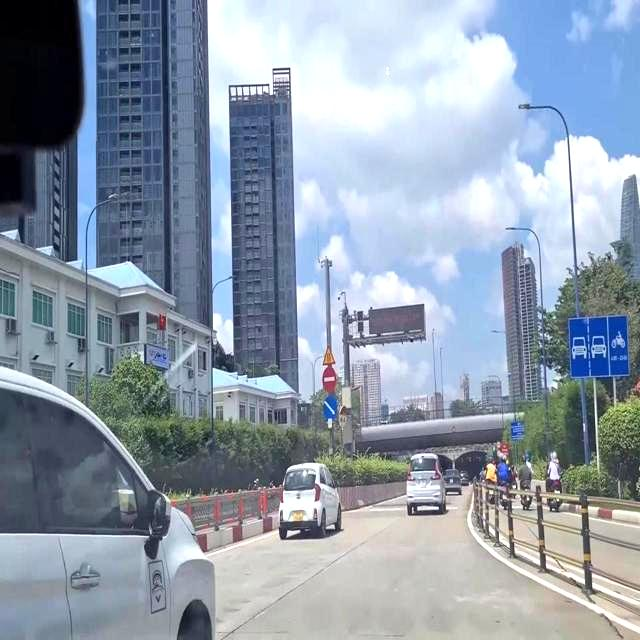Cấm đi ngược chiều: (321, 367, 337, 393)
Hướng phải đi vòng sang phải: (323, 394, 337, 420)
Làn đường cho từng xe: (563, 307, 631, 382)
Đường hẹp: (321, 346, 336, 366)
